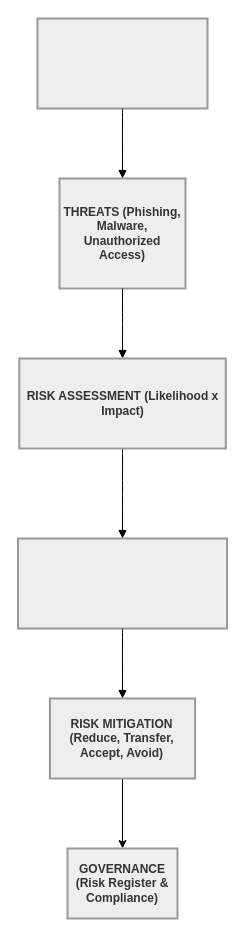
Image size: 245x936. Some labels were removed from this diagram. The box of each missing label's shape, as (x1, y1, x2, y2) in pixels:
ASSETS (Data, Systems, Users): (36, 17, 208, 109)
CONTROLS (MFA, Policies, Monitoring): (16, 537, 228, 629)
